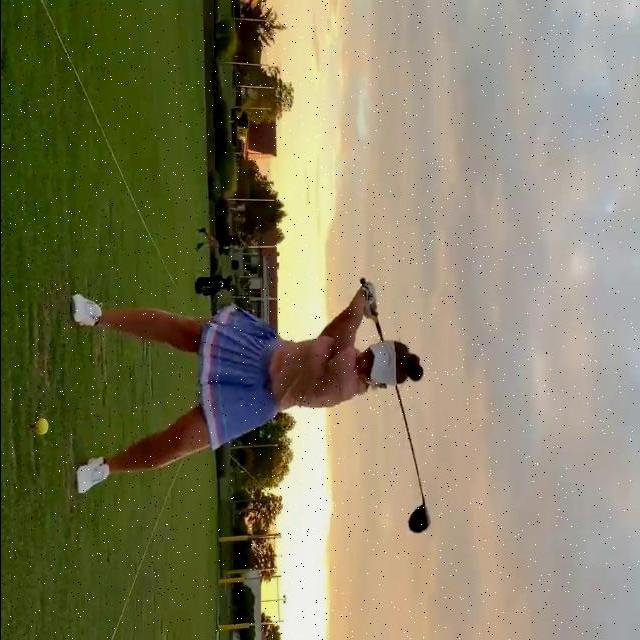ClubHandle: (357, 275, 432, 535)
ClubHead: (407, 502, 430, 533)
GolfBall: (33, 415, 47, 437)
